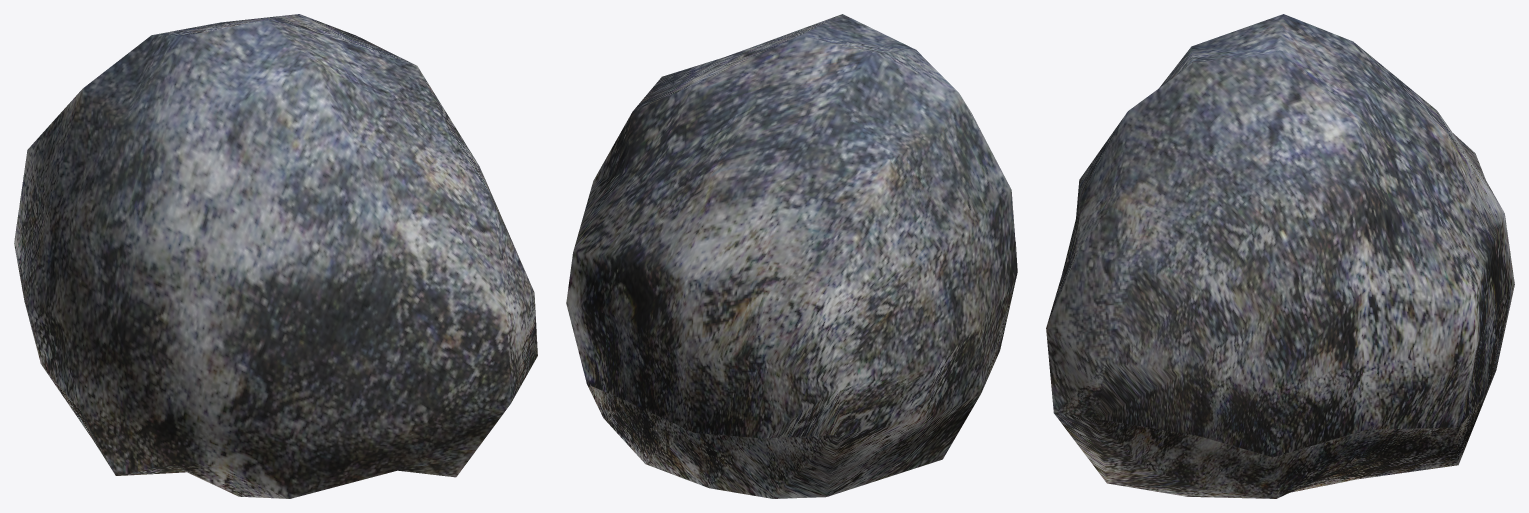
File: CT_Rock_04.FBX
The picture shows the model from 3 angles, left to right: view 1: azimuth 30°, elevation 25°; view 2: azimuth 150°, elevation 25°; view 3: azimuth 270°, elevation 25°; orthographic projection. The views are drawn at different scales.
Visible parts, largest first — view 1: CT_Rock03; view 2: CT_Rock03; view 3: CT_Rock03.
Boxes of the visible parts, x1,y1,x2,y2 form: CT_Rock03: [14, 14, 537, 498]; CT_Rock03: [566, 14, 1017, 498]; CT_Rock03: [1046, 14, 1514, 498].
Bounding box in the file's own units: 38.81 × 40.46 × 41.69.
